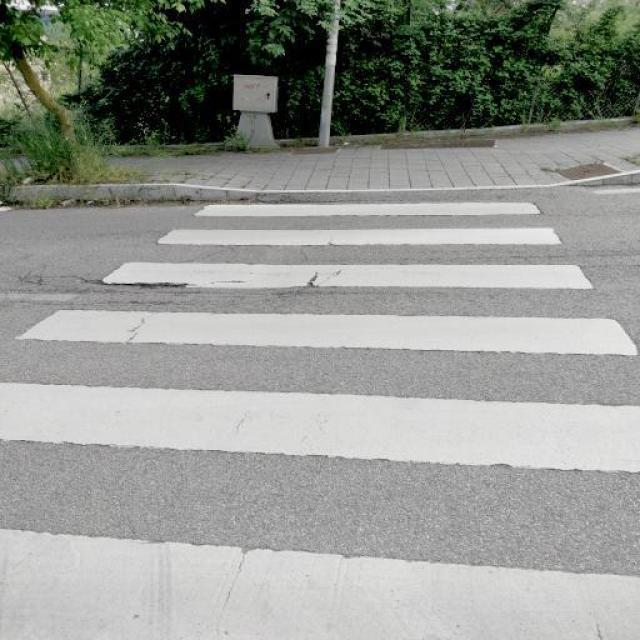crosswalk: (4, 198, 640, 640)
